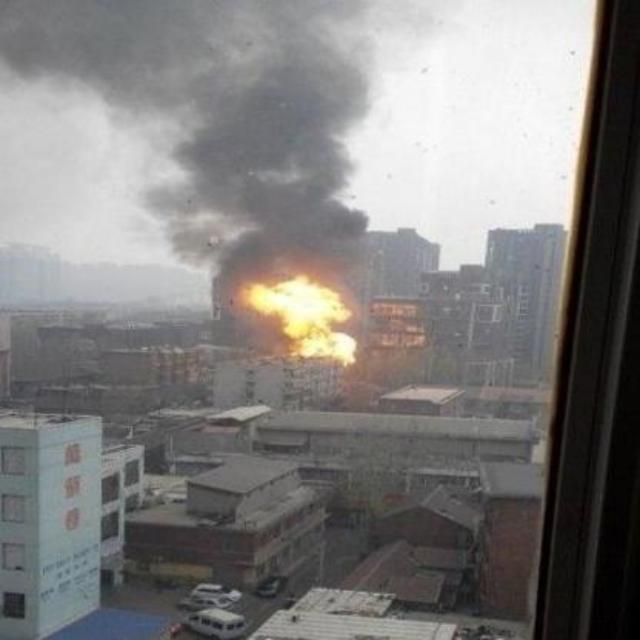Fire: (242, 276, 358, 380)
Smoke: (11, 5, 376, 273)
